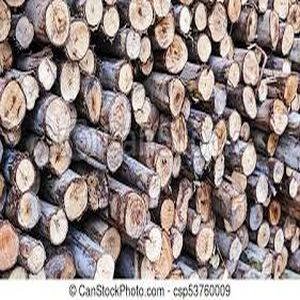log: (42, 96, 80, 144), (1, 78, 28, 133), (132, 95, 161, 145), (119, 190, 148, 240), (61, 17, 90, 63), (104, 94, 132, 141), (221, 185, 246, 237), (44, 1, 72, 47), (60, 177, 89, 220), (81, 76, 105, 127), (12, 191, 41, 232), (148, 147, 175, 189), (86, 170, 112, 213), (165, 75, 190, 119), (58, 61, 82, 106), (43, 249, 77, 280), (119, 1, 154, 31), (165, 114, 190, 156), (162, 35, 188, 75), (97, 225, 125, 262), (192, 225, 217, 266), (11, 156, 37, 195), (45, 142, 73, 176), (89, 254, 121, 283), (19, 72, 42, 112), (1, 222, 19, 271), (240, 49, 262, 89), (207, 2, 228, 43), (46, 206, 69, 243), (24, 239, 47, 276), (154, 14, 176, 52), (267, 97, 289, 135), (103, 139, 126, 175), (36, 56, 58, 93), (14, 15, 35, 53), (241, 49, 262, 87), (145, 223, 164, 264), (194, 64, 215, 101), (238, 141, 260, 176), (28, 135, 51, 168), (239, 85, 258, 122), (158, 196, 178, 231), (115, 59, 134, 94), (225, 109, 244, 144), (121, 28, 140, 62), (225, 236, 249, 262), (280, 72, 300, 103), (103, 6, 121, 40), (194, 33, 213, 64), (79, 48, 100, 76), (242, 8, 260, 40), (83, 1, 103, 29), (129, 82, 147, 113), (210, 87, 228, 118), (169, 230, 187, 260), (267, 10, 281, 48), (278, 24, 297, 52), (266, 199, 285, 227), (225, 59, 242, 90), (212, 154, 227, 189), (198, 113, 214, 145), (253, 175, 270, 205), (256, 219, 272, 250), (270, 159, 286, 189), (192, 2, 209, 30), (145, 172, 163, 198), (249, 203, 265, 232), (178, 6, 193, 36), (217, 33, 235, 58), (137, 35, 152, 63), (225, 1, 245, 21), (264, 132, 279, 158), (273, 228, 286, 256), (239, 120, 252, 143), (155, 1, 172, 17)
